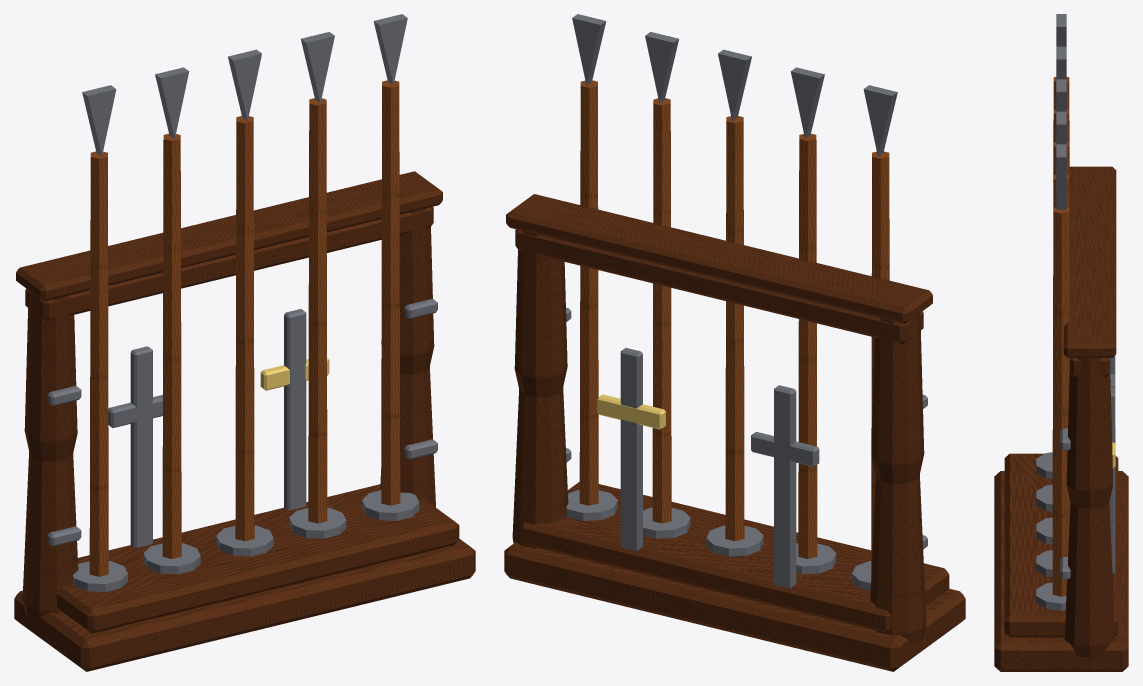
File: fantasy-mmo-city-and-townsfolk-guard-weapon-rack-07c16b87__32765.glb
3 renders of one model, left to right at view 1: azimuth 30°, elevation 25°; view 2: azimuth 150°, elevation 25°; view 3: azimuth 270°, elevation 25°, orthographic. The views are drawn at different scales.
Parts seen in each view (by area): view 1: guard-weapon-rack; view 2: guard-weapon-rack; view 3: guard-weapon-rack.
Part boxes in pixels (<box>): guard-weapon-rack: <box>14,14,475,671</box>; guard-weapon-rack: <box>504,14,965,671</box>; guard-weapon-rack: <box>994,14,1128,671</box>.
Size of the model in its own units: 2.12 by 2.72 by 0.66.
4 materials, 2 textured.
